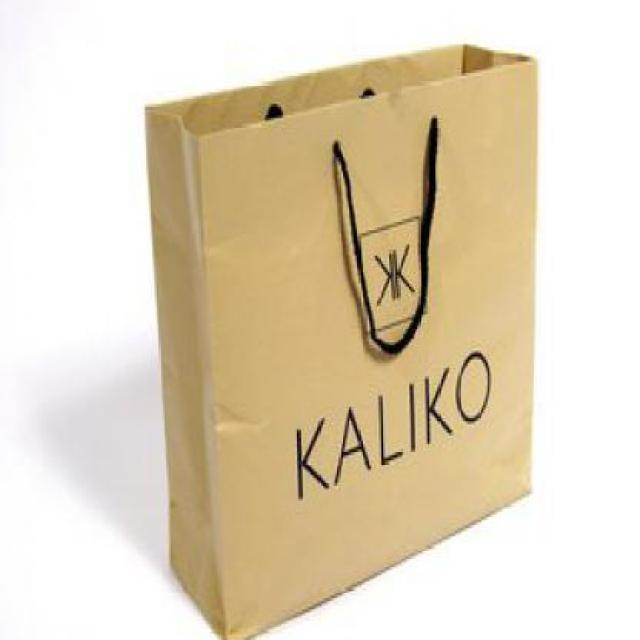box: (135, 21, 543, 640)
